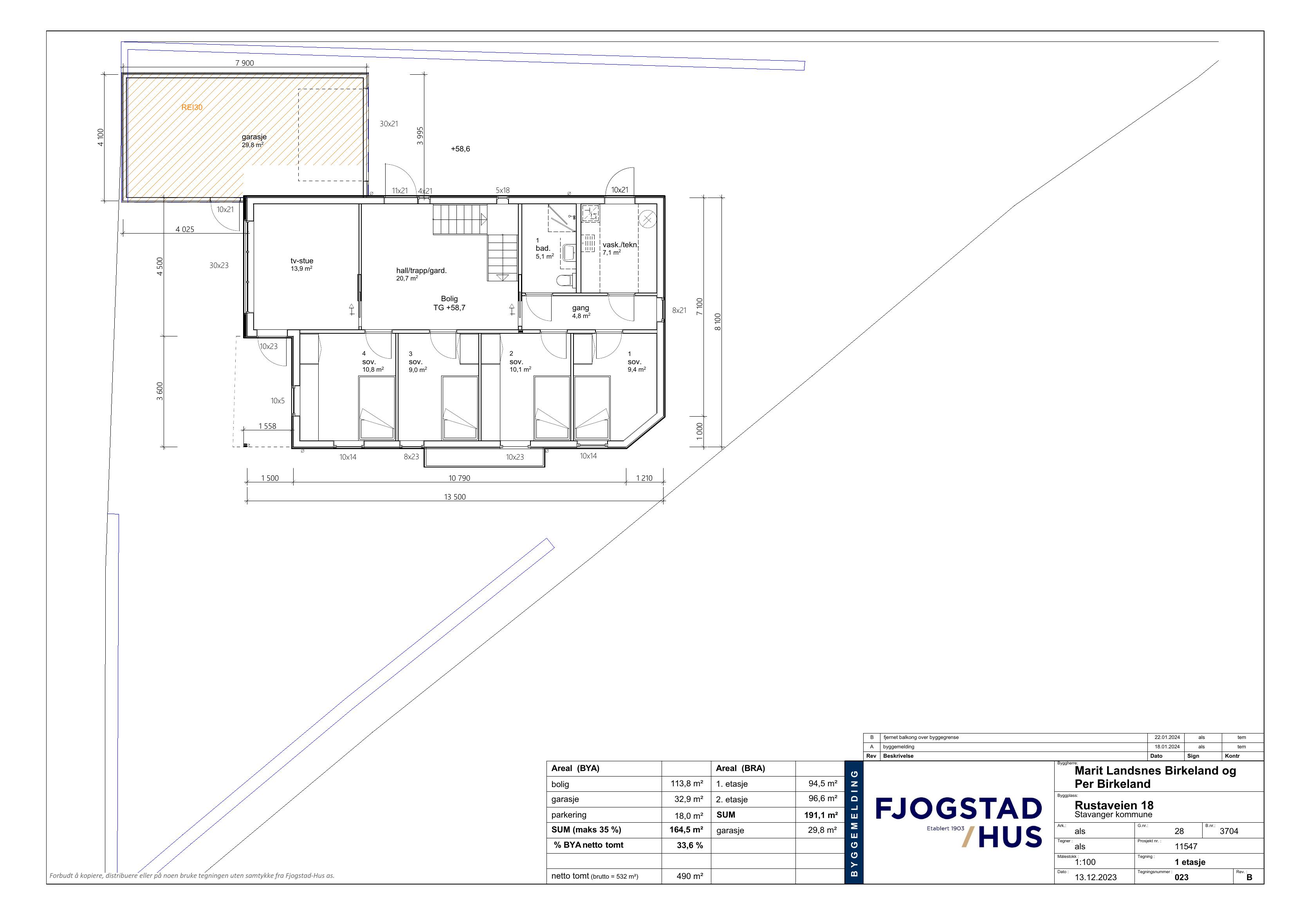plantegning: (120, 71, 665, 467)
